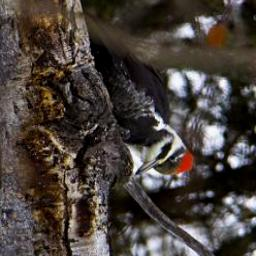Woodpecker: (92, 34, 199, 178)
